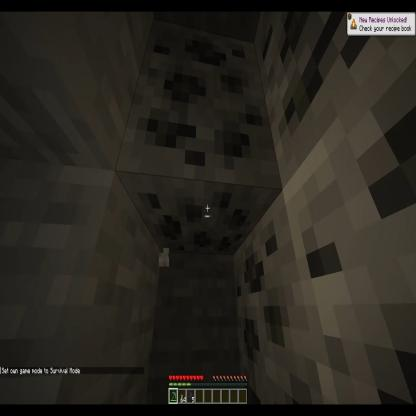coal ore: (281, 58, 416, 414), (113, 26, 279, 255), (252, 0, 416, 186), (233, 190, 324, 416)
